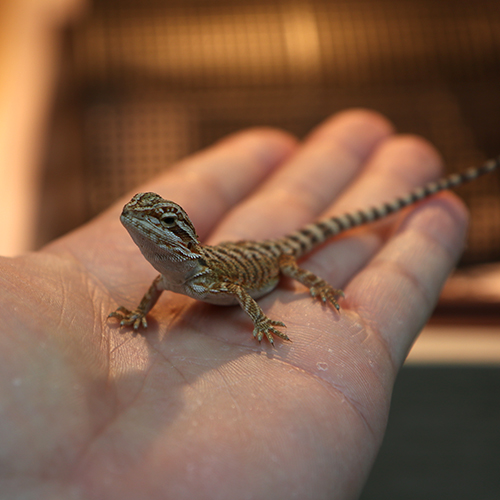bearded: (107, 158, 500, 352)
